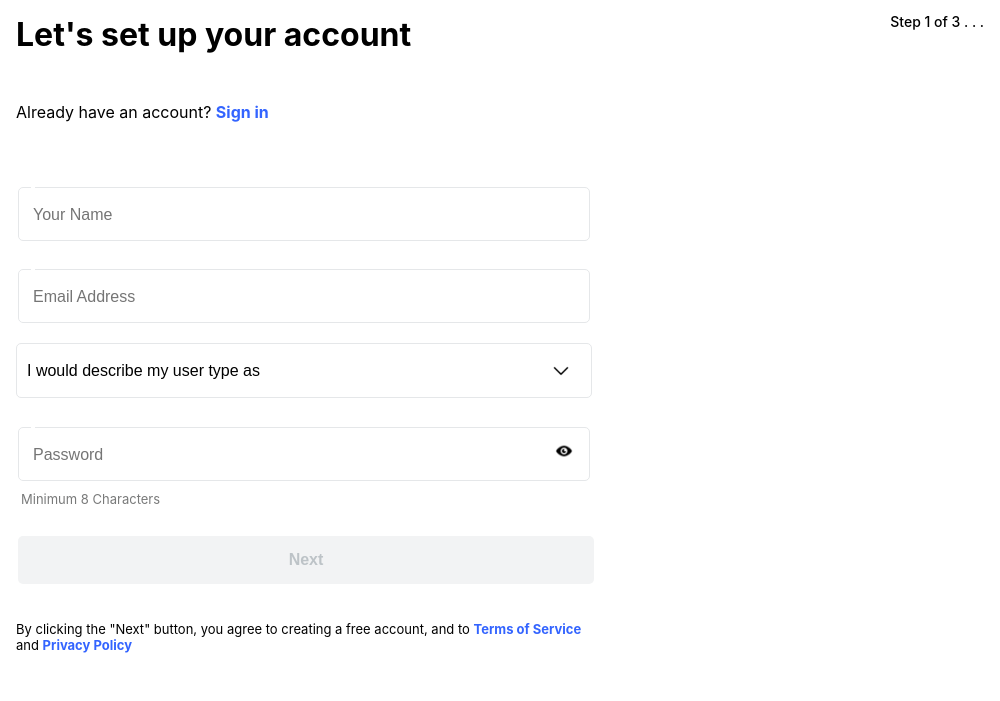
Test: Form › when email input field is changed › with invalid email, should set validation error
Type "not_a_valid_email" into the field with test id "Email Address" at (279, 297), box [31,287,526,307]
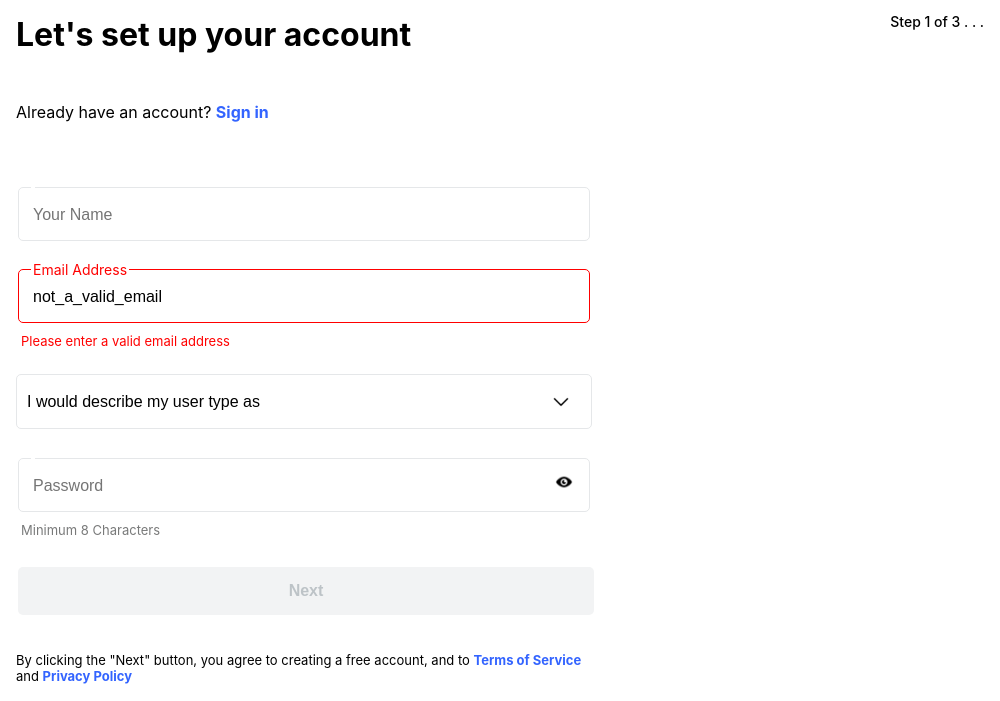
Result: the text with test id "emailError" reads "Please enter a valid email address" at [21,333,230,349]
